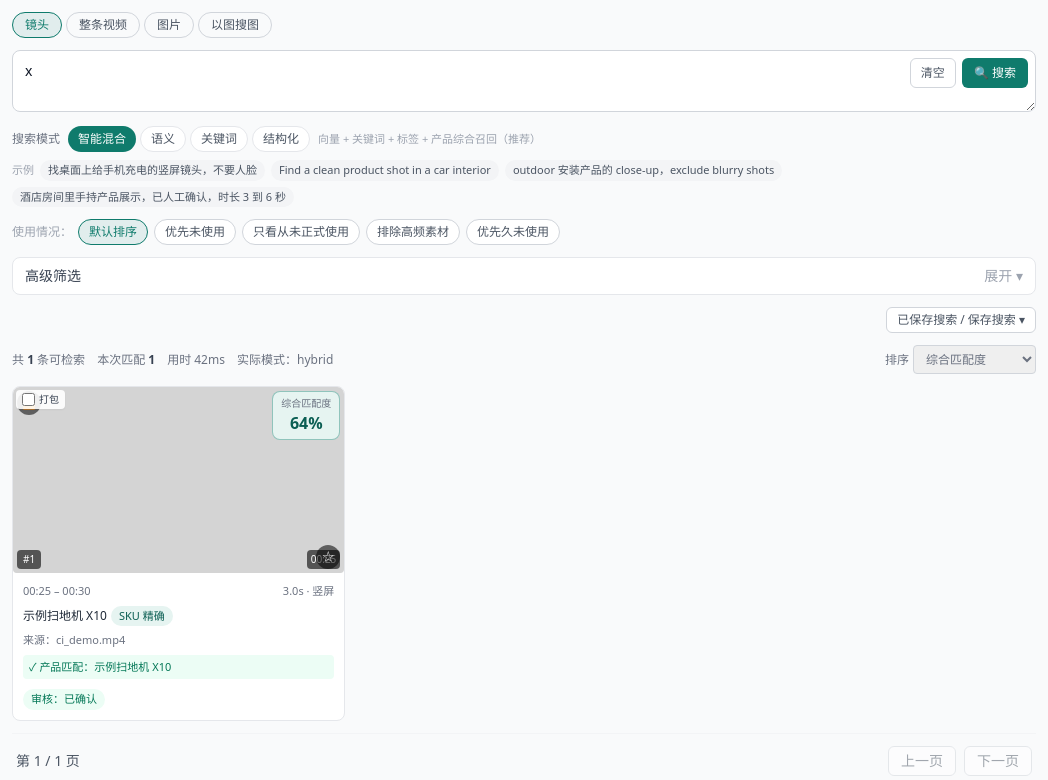
Test: SemanticSearchView ZIP 打包多选 › 取消勾选后从打包集合移除
Click the checkbox with test id "bundle-select-101": [28, 400] box x1=22 y1=393 x2=35 y2=406
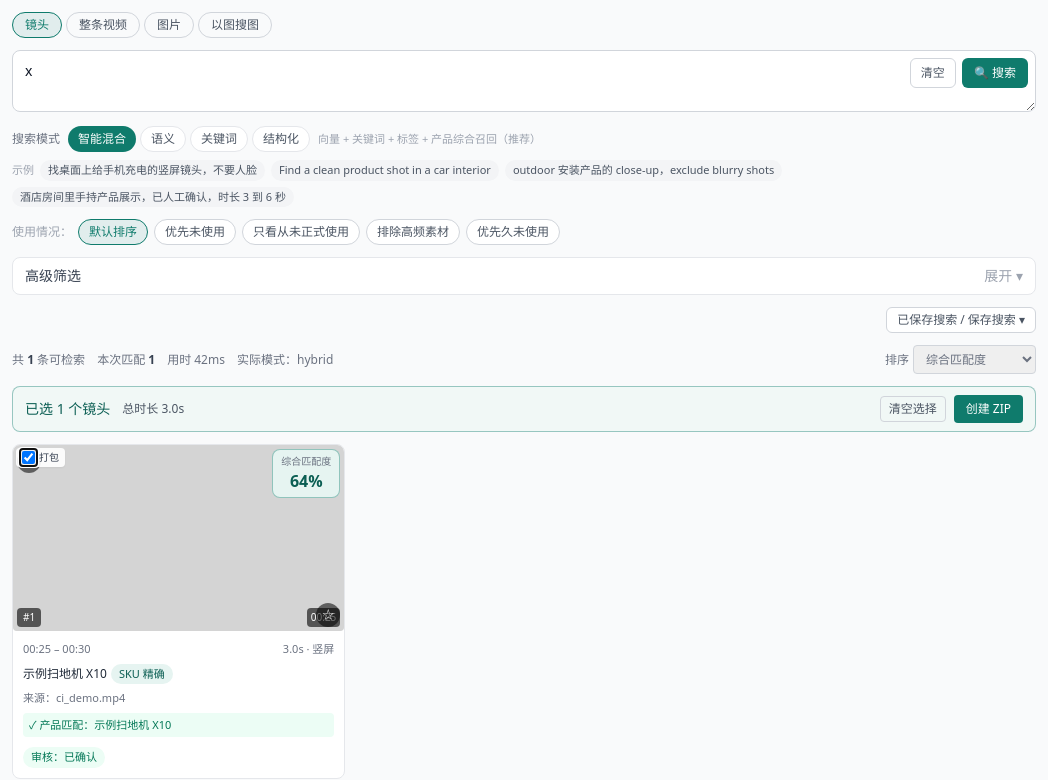
Check: the text with test id "bundle-count" reads "已选 1 个镜头", box x1=25 y1=399 x2=110 y2=419
Click the checkbox with test id "bundle-select-101": [28, 458] box x1=22 y1=451 x2=35 y2=464
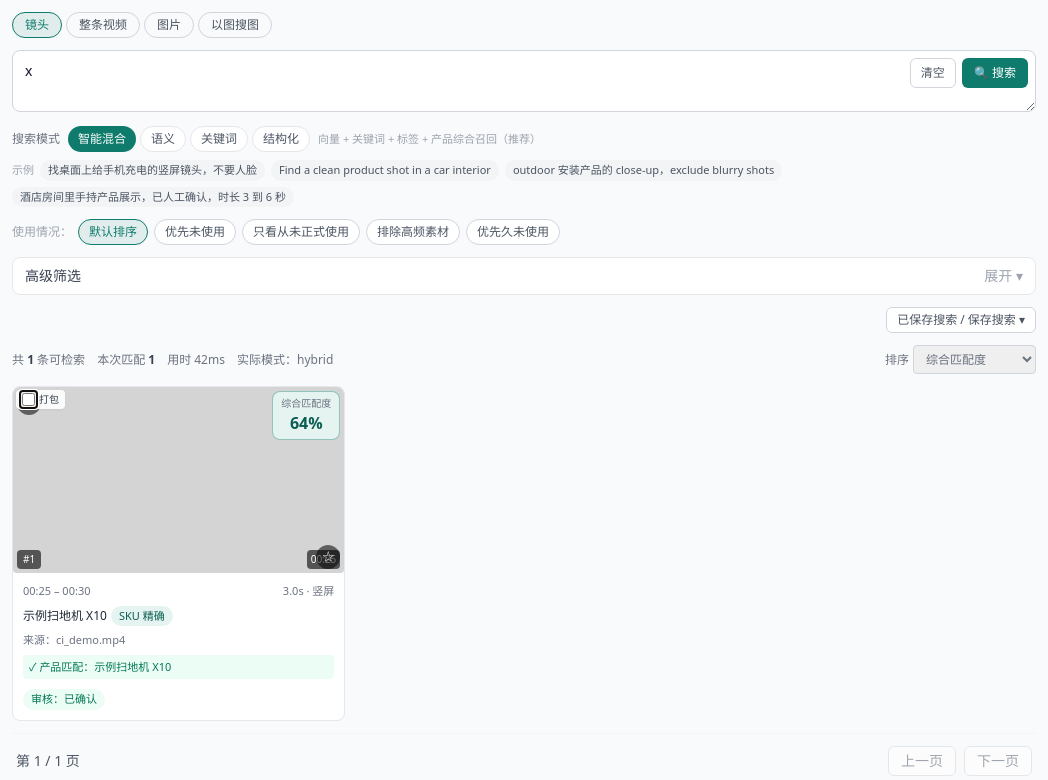
Check: the text with test id "bundle-count" is gone
